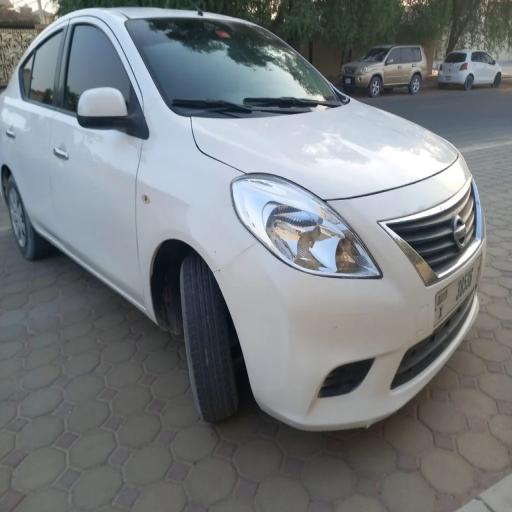license-plates: (433, 254, 482, 328)
